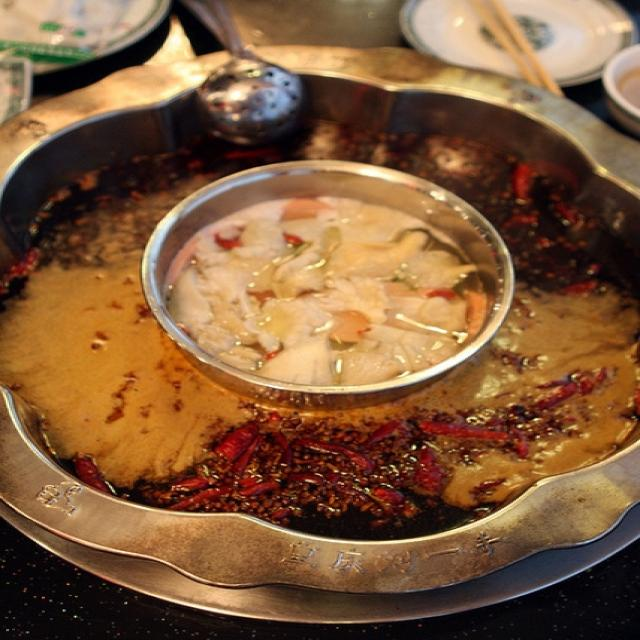汤锅炖物: (21, 26, 620, 594)
